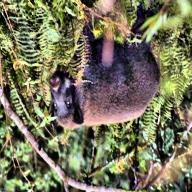boar: (47, 26, 172, 148)
